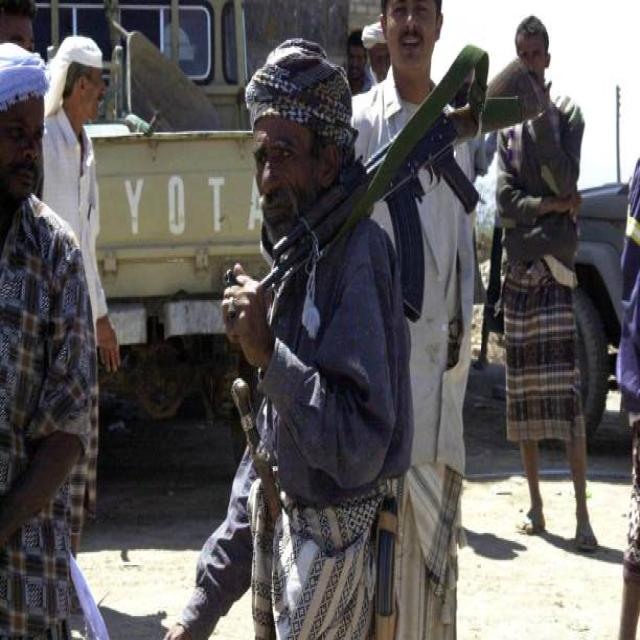civilian: (0, 32, 108, 638), (493, 16, 597, 551), (397, 180, 473, 638), (42, 35, 119, 370), (353, 0, 442, 158)
terrorist: (166, 40, 543, 638)
